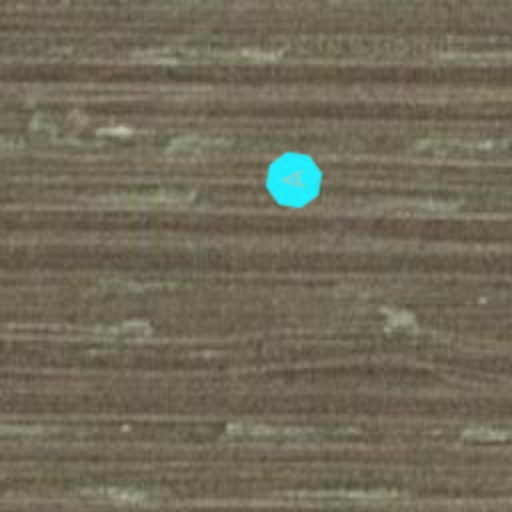octagon: (258, 144, 330, 216)
